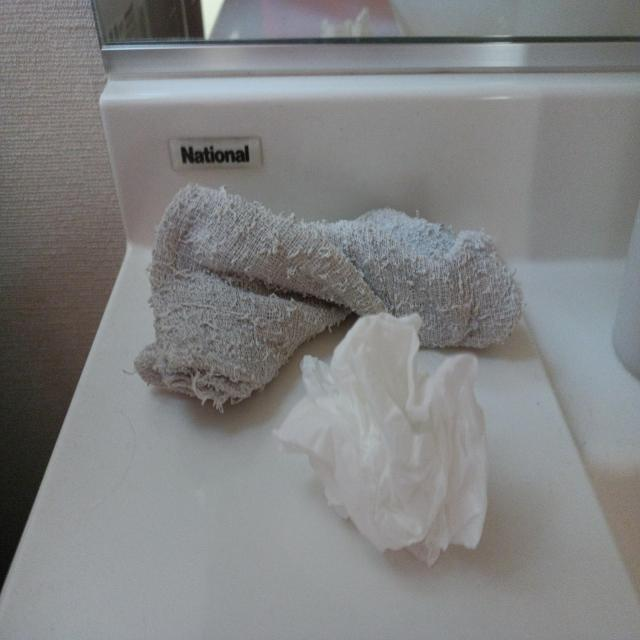衛生紙: (273, 308, 495, 576)
